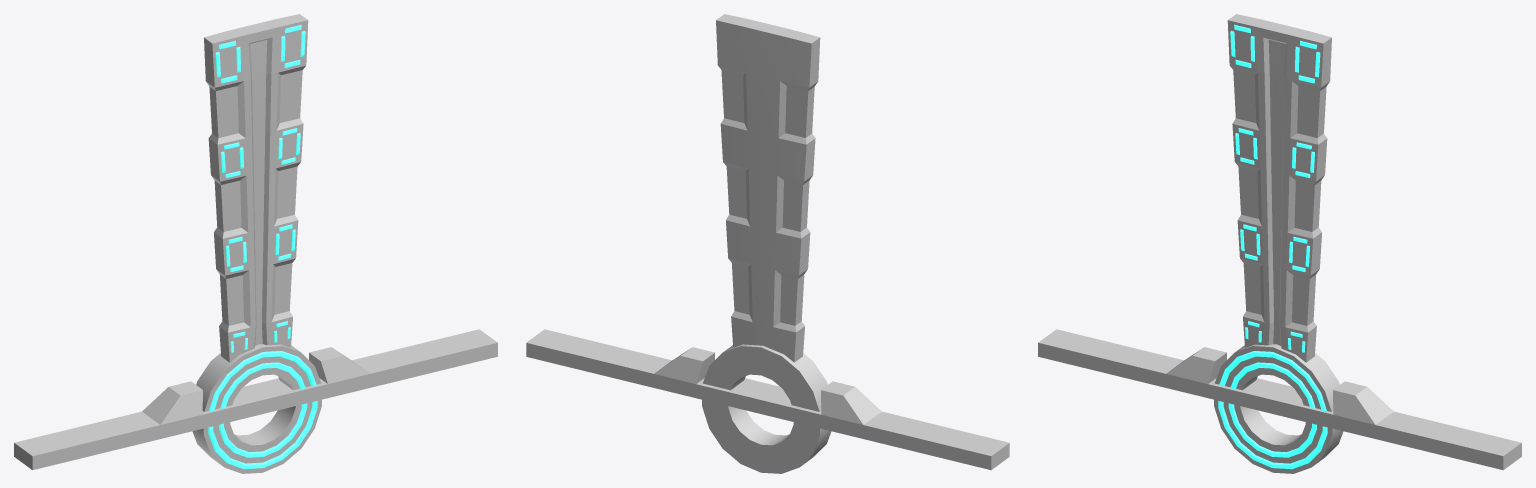
The model's file is ventilator.FBX.
The picture shows the model from 3 angles, left to right: view 1: azimuth 30°, elevation 25°; view 2: azimuth 150°, elevation 25°; view 3: azimuth 330°, elevation 25°; orthographic projection.
Parts seen in each view (by area): view 1: Box013, Box014, Tube001, Group001; view 2: Box013, Box014, Tube001; view 3: Box013, Box014, Tube001, Group001.
Part boxes in pixels (x1,y1,x2,y2): Box013: (204,14,308,362); Box014: (14,329,497,470); Tube001: (192,344,321,473); Group001: (208,24,317,469); Box013: (716,14,820,362); Box014: (526,329,1009,470); Tube001: (702,344,831,473); Box013: (1227,14,1331,362); Box014: (1038,329,1521,470); Tube001: (1214,344,1343,473); Group001: (1218,24,1327,469).
Size of the model in its own units: 327 by 295 by 22.43.
